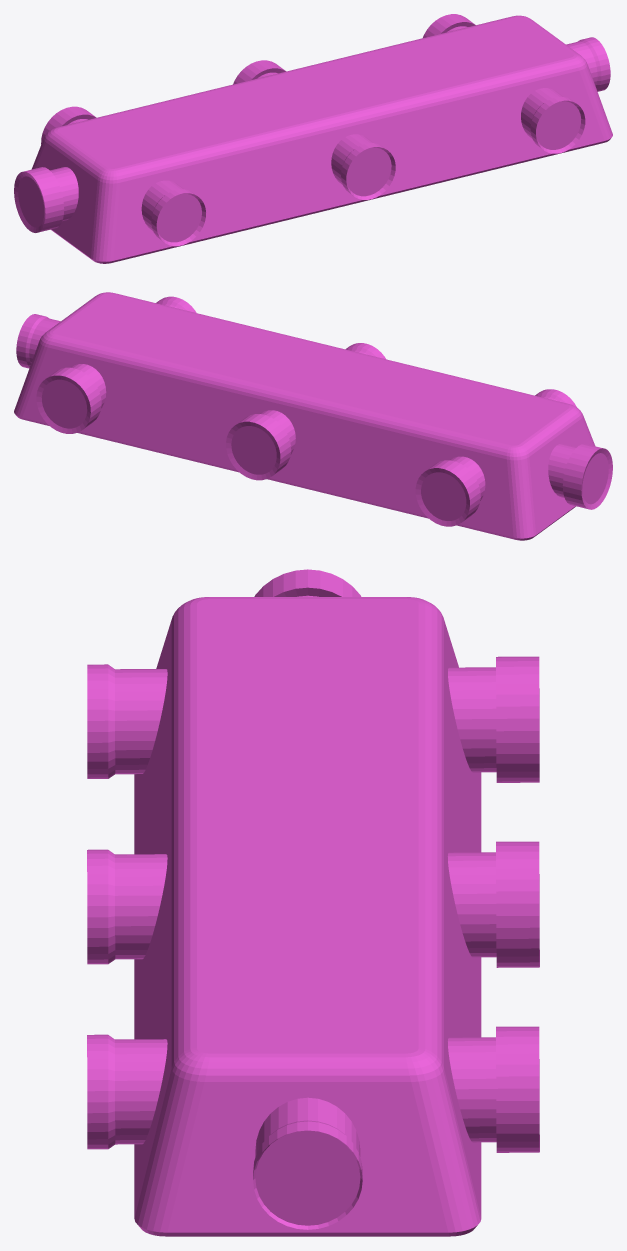
File: Num4.fbx
The picture shows the model from 3 angles, top to bottom: view 1: azimuth 30°, elevation 25°; view 2: azimuth 150°, elevation 25°; view 3: azimuth 270°, elevation 25°; orthographic projection. The views are drawn at different scales.
Parts seen in each view (by area): view 1: Cube.002; view 2: Cube.002; view 3: Cube.002.
Boxes of the visible parts, <box> form: Cube.002: <box>14,14,612,263</box>; Cube.002: <box>14,292,612,540</box>; Cube.002: <box>87,569,539,1236</box>.
Size of the model in its own units: 7.48 by 1 by 2.58.
